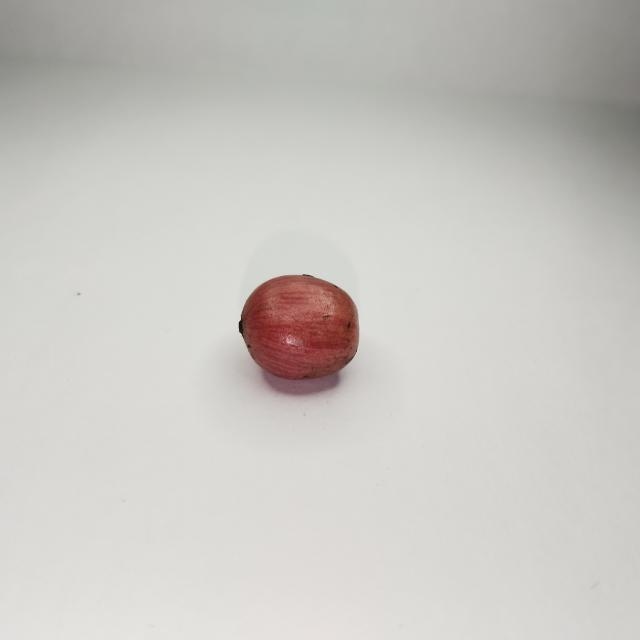Sano: (233, 263, 366, 390)
